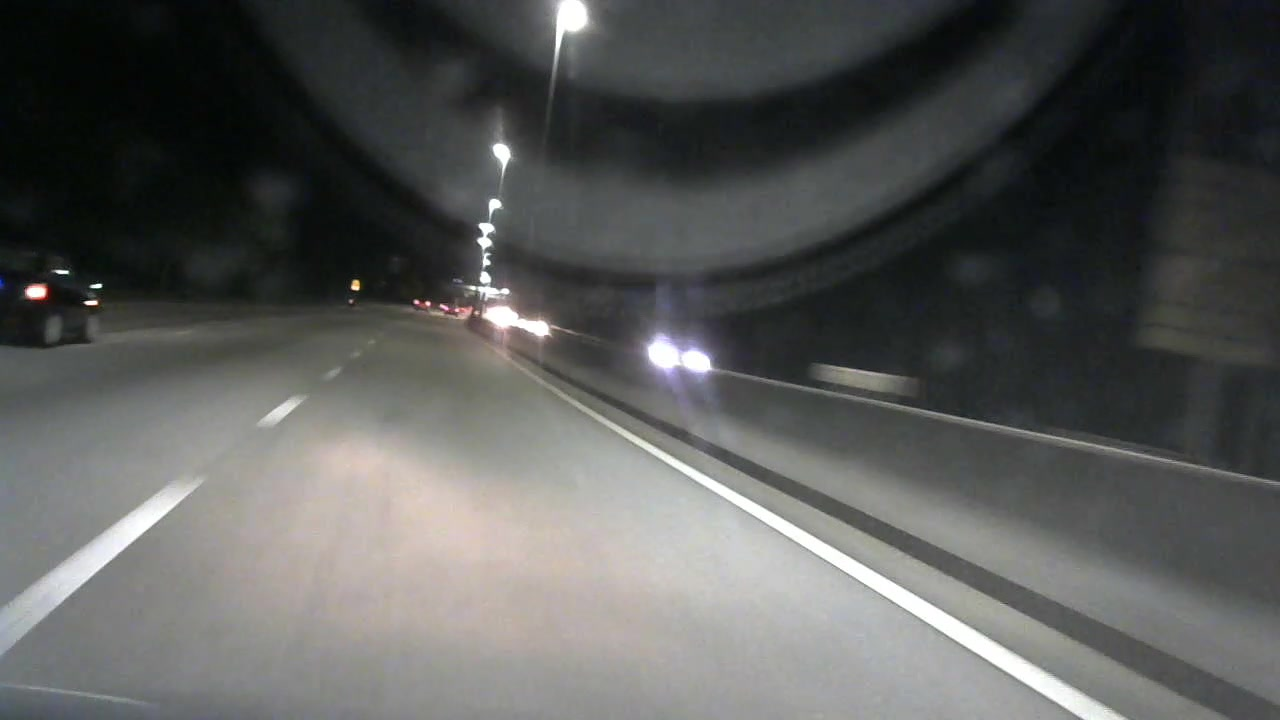Car: (1, 238, 118, 352), (402, 290, 442, 315), (444, 301, 469, 318)
